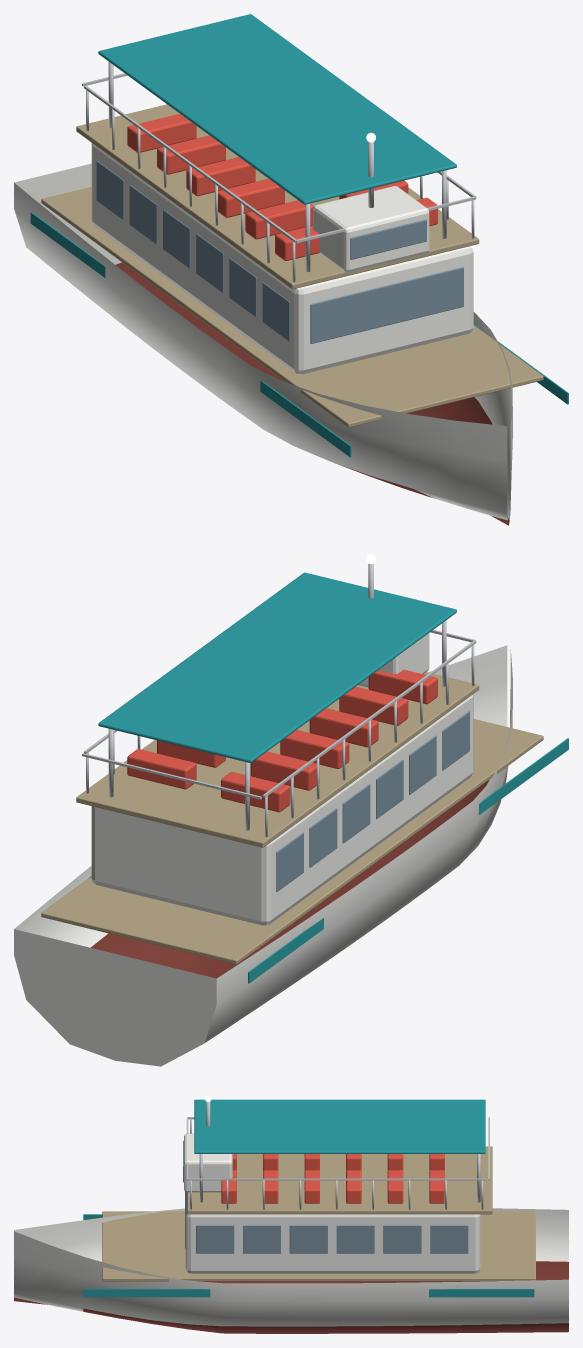
File: ferry.glb
3 views of the same model, one above another, from view 1: azimuth 30°, elevation 25°; view 2: azimuth 150°, elevation 25°; view 3: azimuth 270°, elevation 25° (orthographic). The views are drawn at different scales.
Parts seen in each view (by area): view 1: ferryBody; view 2: ferryBody; view 3: ferryBody.
Part boxes in pixels (x1=…): ferryBody: x1=14, y1=14, x2=568, y2=525; ferryBody: x1=14, y1=554, x2=568, y2=1066; ferryBody: x1=14, y1=1095, x2=568, y2=1333.
Size of the model in its own units: 5.28 by 7.15 by 16.
